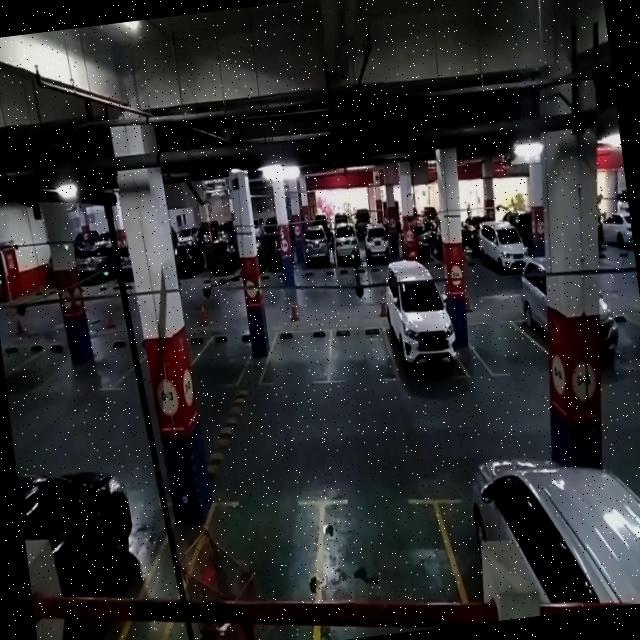empty: (302, 464, 466, 640), (466, 312, 542, 382), (322, 321, 398, 390), (257, 324, 334, 391), (198, 328, 255, 390)
occupied: (440, 439, 632, 625), (378, 266, 469, 388)
